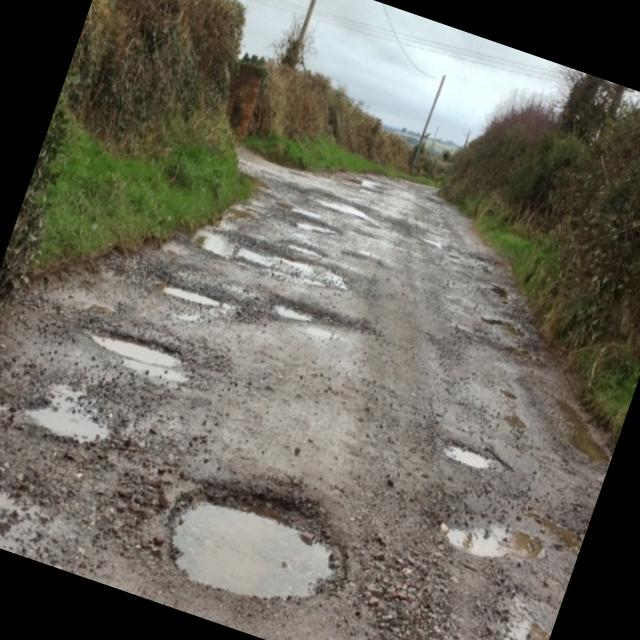Potholes: (155, 452, 359, 626), (412, 466, 574, 608), (68, 300, 208, 408), (175, 210, 344, 295), (8, 368, 125, 462), (254, 276, 368, 352), (0, 443, 65, 561), (424, 416, 510, 493), (157, 269, 235, 323), (475, 296, 549, 349), (478, 593, 558, 640), (268, 194, 346, 241)
